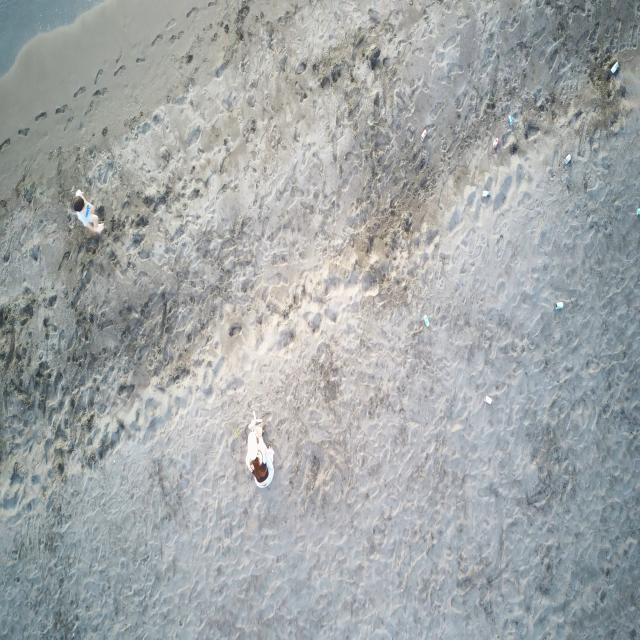Garbage: (246, 412, 272, 487), (71, 190, 103, 233), (609, 60, 619, 75), (555, 300, 563, 310), (493, 138, 499, 151), (420, 128, 426, 140), (484, 395, 492, 404), (563, 156, 571, 164), (482, 190, 489, 198), (507, 115, 512, 125), (423, 316, 427, 327), (635, 207, 639, 216)
